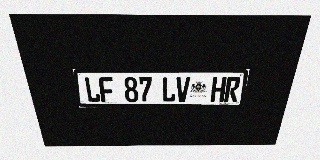7: (138, 77, 152, 102)
8: (124, 77, 139, 102)
F: (98, 77, 115, 102)
H: (210, 77, 227, 102)
L: (84, 77, 101, 102), (162, 77, 176, 102)
R: (224, 77, 241, 102)
V: (176, 77, 190, 102)
